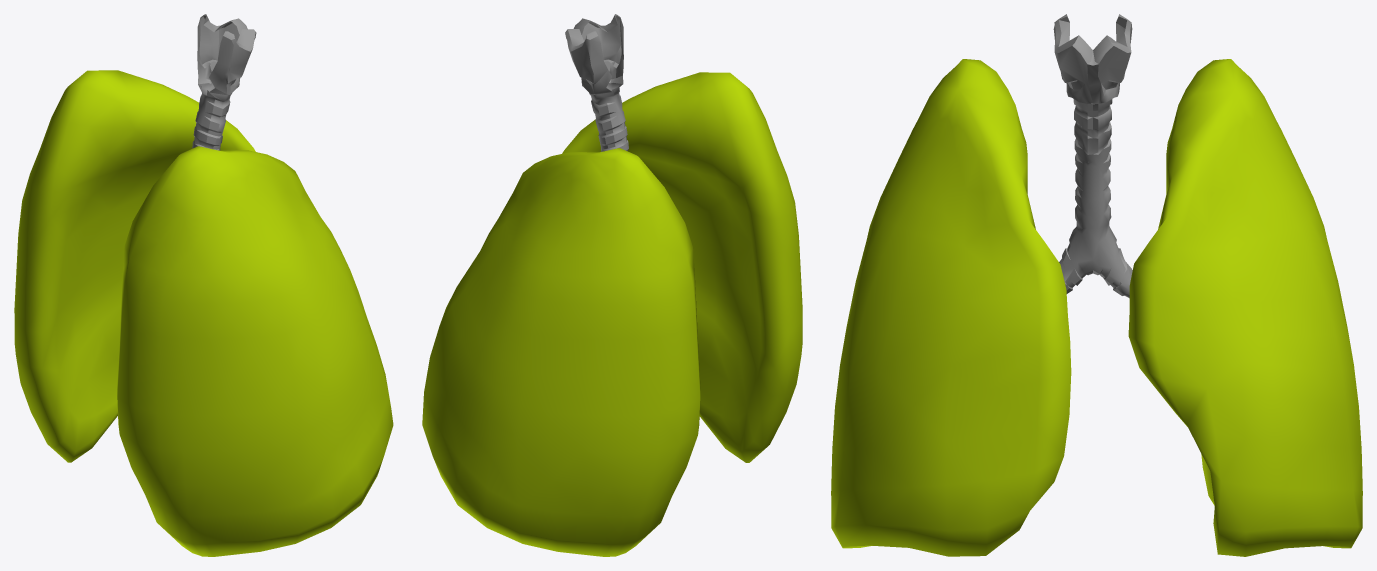
Rendered from lung.FBX.
3 views of the same model, side by side, from view 1: azimuth 30°, elevation 25°; view 2: azimuth 150°, elevation 25°; view 3: azimuth 270°, elevation 25° (orthographic). The views are drawn at different scales.
Visible parts, largest first — view 1: Object006, Object015; view 2: Object006, Object015; view 3: Object006, Object015.
Boxes of the visible parts, x1,y1,x2,y2 form: Object006: (14, 70, 393, 556); Object015: (192, 14, 256, 150); Object006: (422, 72, 802, 556); Object015: (565, 14, 628, 151); Object006: (831, 59, 1362, 556); Object015: (1053, 14, 1132, 298).
Bounding box in the file's own units: 17.89 × 30.33 × 25.76.
